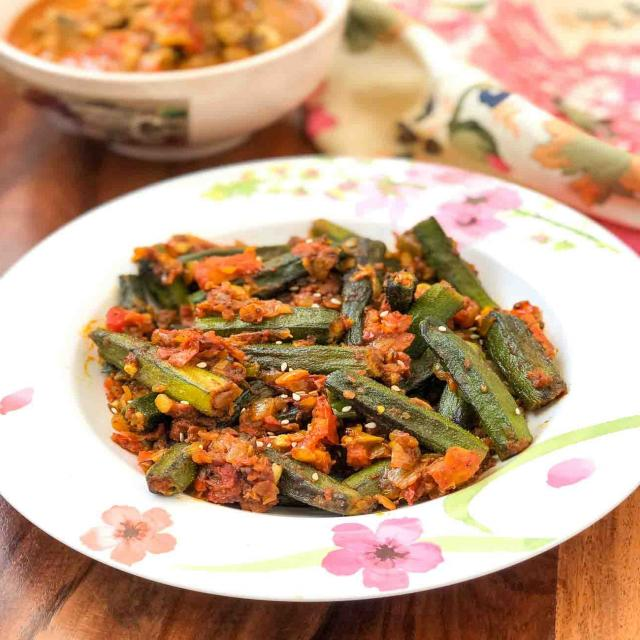Bhindi Masala: (84, 213, 562, 525)
